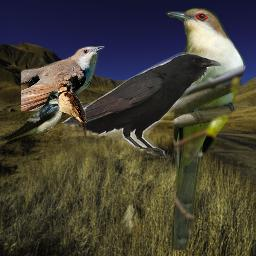Crow: (62, 52, 221, 158)
Cuckoo: (165, 7, 247, 250), (21, 46, 105, 111)
Swallow: (1, 91, 63, 146), (57, 81, 87, 139)
